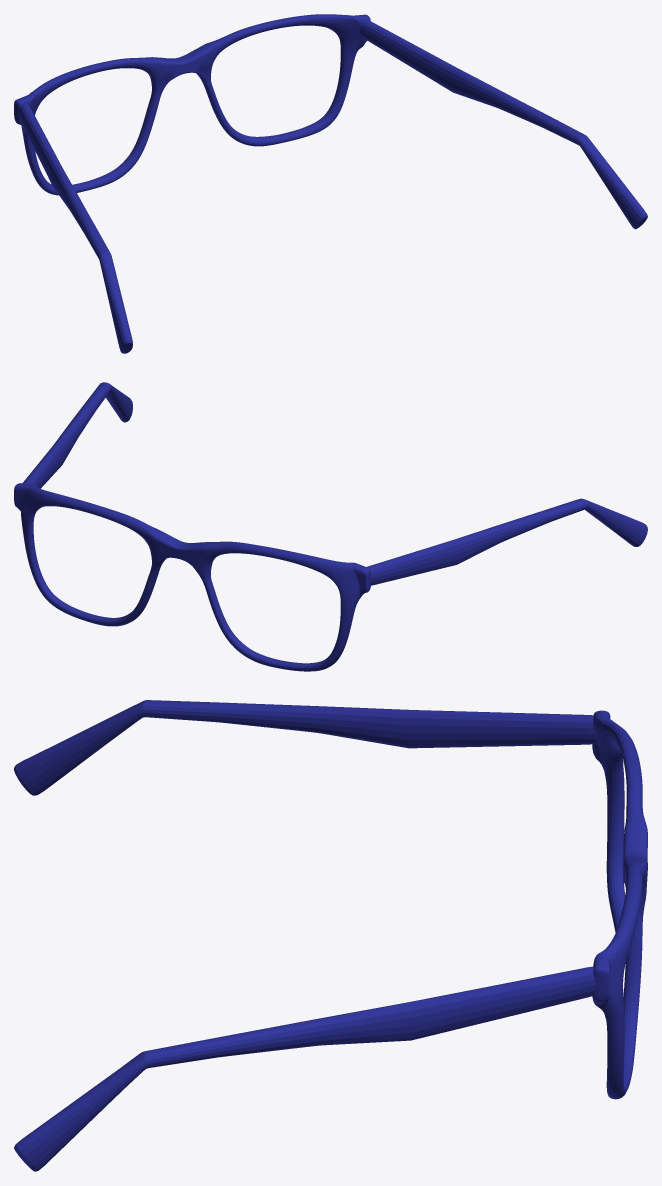
File: square_glasses.fbx
3 views of the same model, one above another, from view 1: azimuth 30°, elevation 25°; view 2: azimuth 150°, elevation 25°; view 3: azimuth 270°, elevation 25° (orthographic). The views are drawn at different scales.
Visible parts, largest first — view 1: frame.001; view 2: frame.001; view 3: frame.001.
Part boxes in pixels (box(x1,y1,x2,y2)): frame.001: box(14, 14, 647, 353); frame.001: box(14, 382, 647, 671); frame.001: box(14, 700, 647, 1171).
Bounding box in the file's own units: 18.62 × 4.07 × 12.92.
